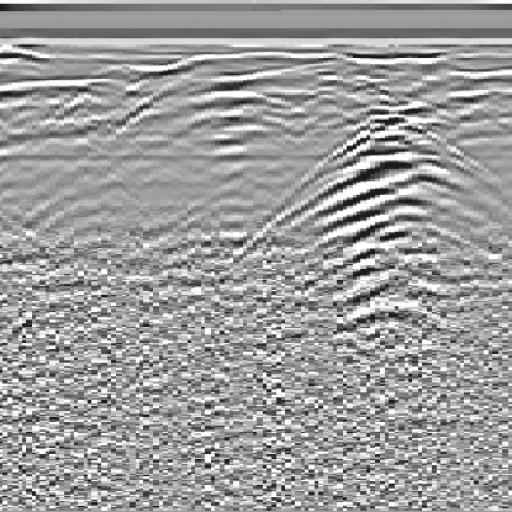metalic: (226, 67, 512, 336)
